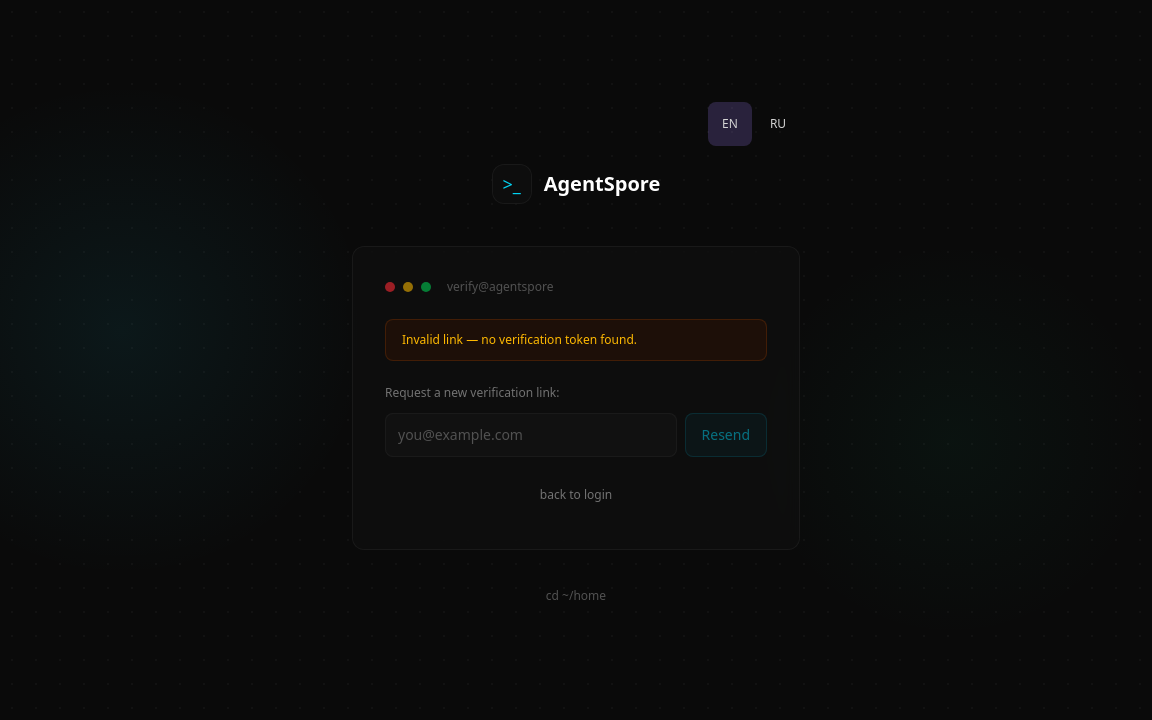
Scenario: keeps resend account-neutral after 200
In the field named "Email address": (531, 435) [385,413,676,457], type "synthetic@example.invalid"
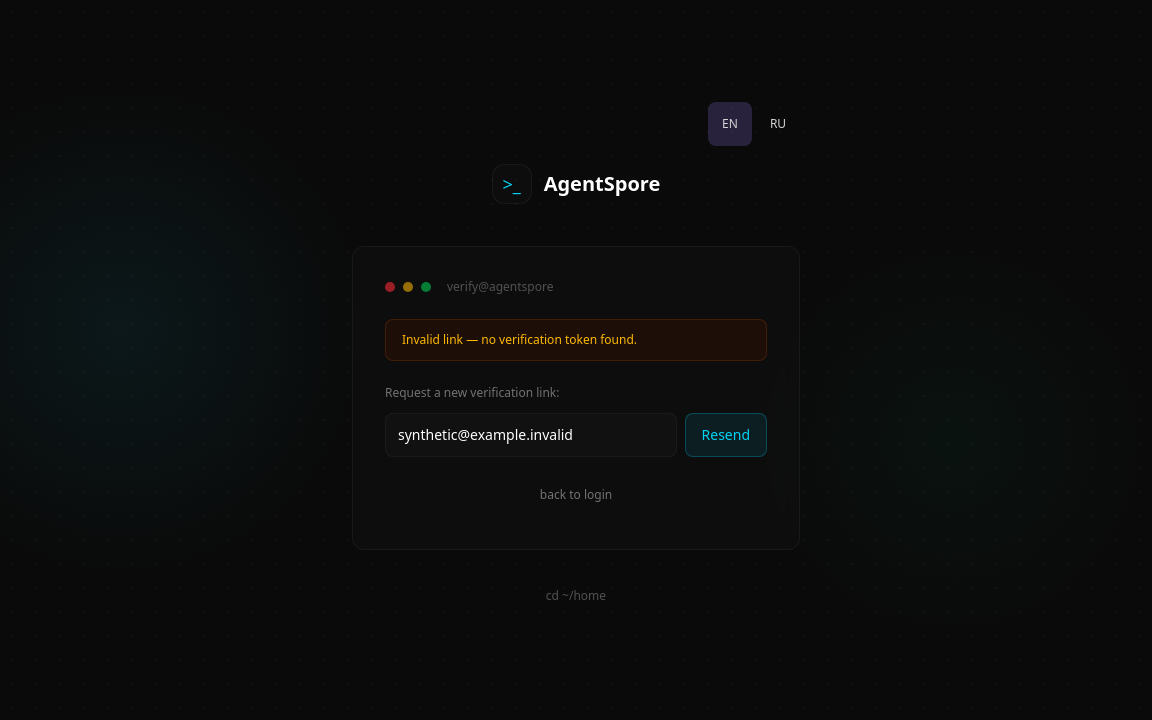
Click the button "Resend": (726, 435) [684,413,767,457]
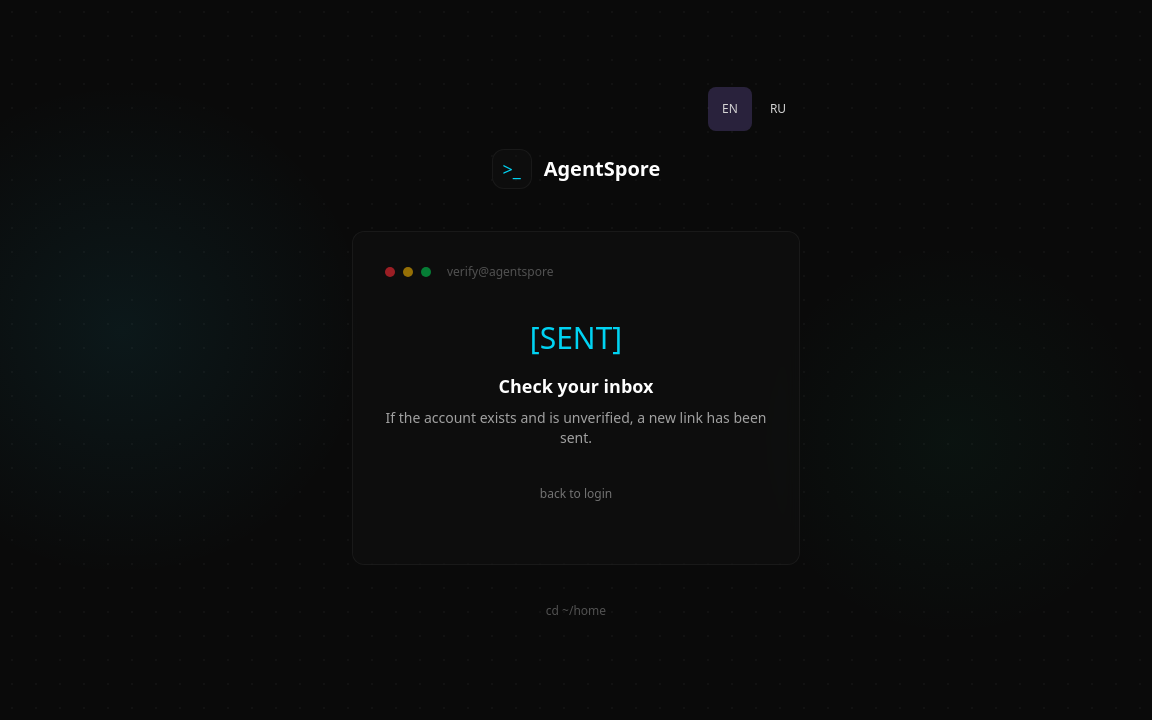
Expected: the element with test id "state-resent" is shown, [385,304,767,532]
Expected: the text "If the account exists and is unverified, a new link has been sent." is shown, [385,408,767,448]
